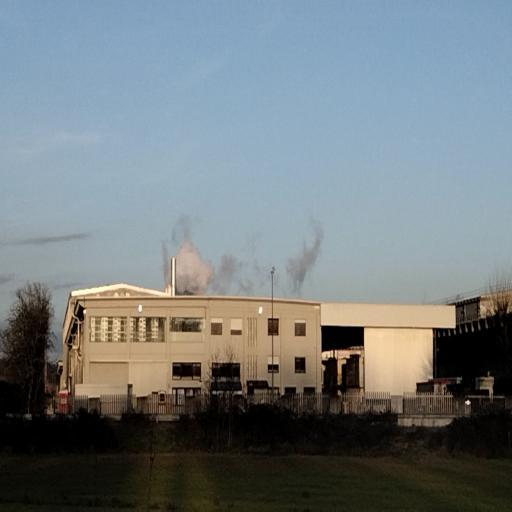leakage: (158, 210, 336, 297)
